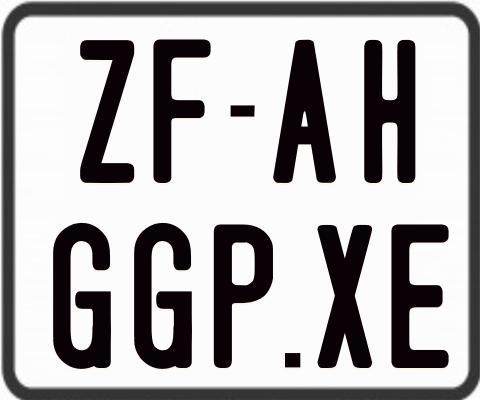A: (272, 39, 336, 187)
E: (388, 221, 448, 366)
F: (153, 39, 211, 187)
G: (52, 220, 115, 367), (133, 222, 192, 369)
H: (361, 39, 416, 182)
P: (211, 223, 276, 370)
X: (317, 225, 376, 373)
Z: (79, 39, 136, 185)
